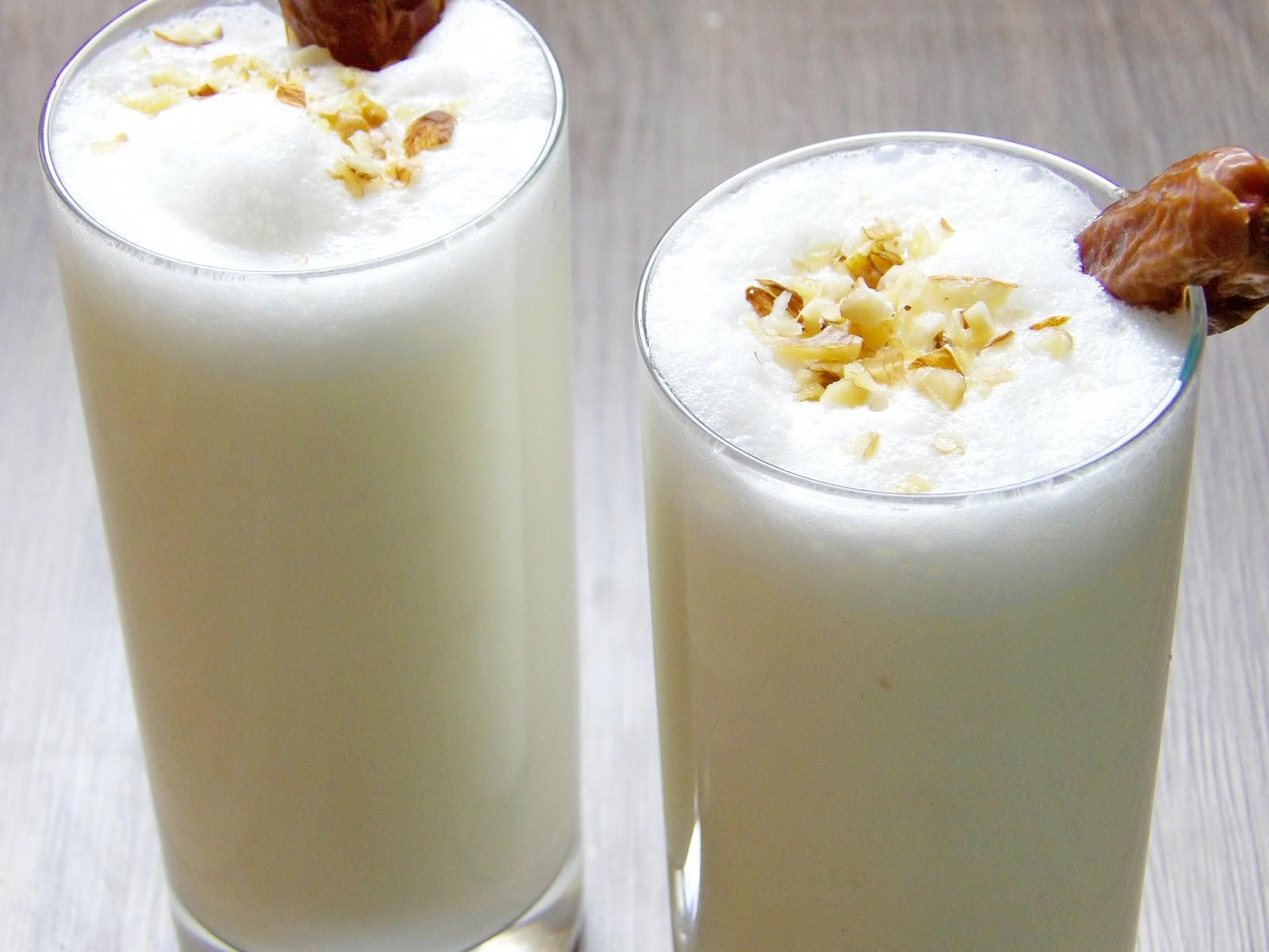Lassi: (42, 0, 582, 952), (643, 133, 1197, 952)
